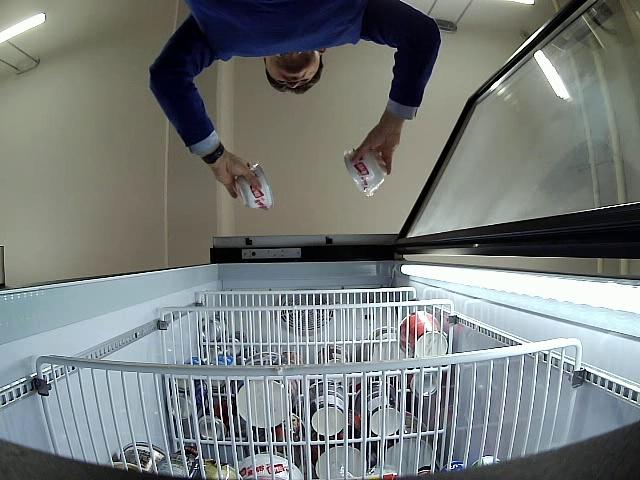00_hand: (350, 120, 401, 174), (215, 155, 262, 199)
09_yukGaeJang: (236, 162, 276, 213), (345, 151, 387, 196)
